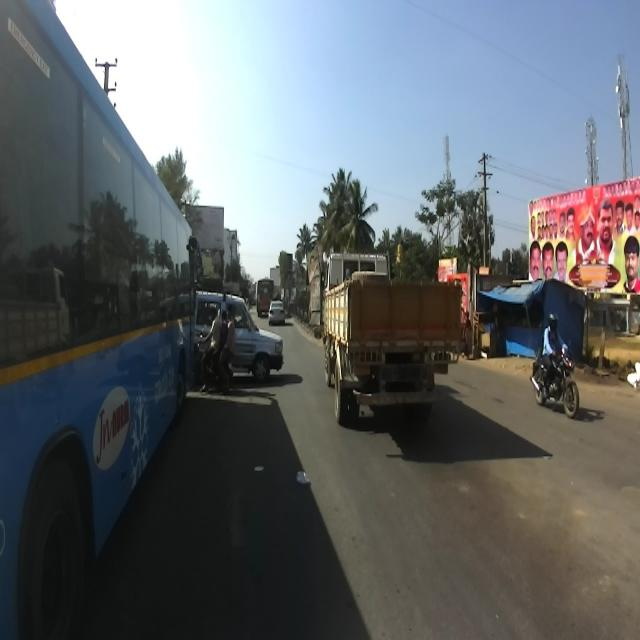Car: (268, 300, 286, 326)
Car_Toyota: (194, 284, 284, 382)
bus: (0, 0, 202, 636), (256, 276, 274, 318)
motorcycle_TVS: (193, 326, 235, 392)
motorcycle_bajaj: (529, 337, 579, 418)
truck: (320, 249, 460, 427)
